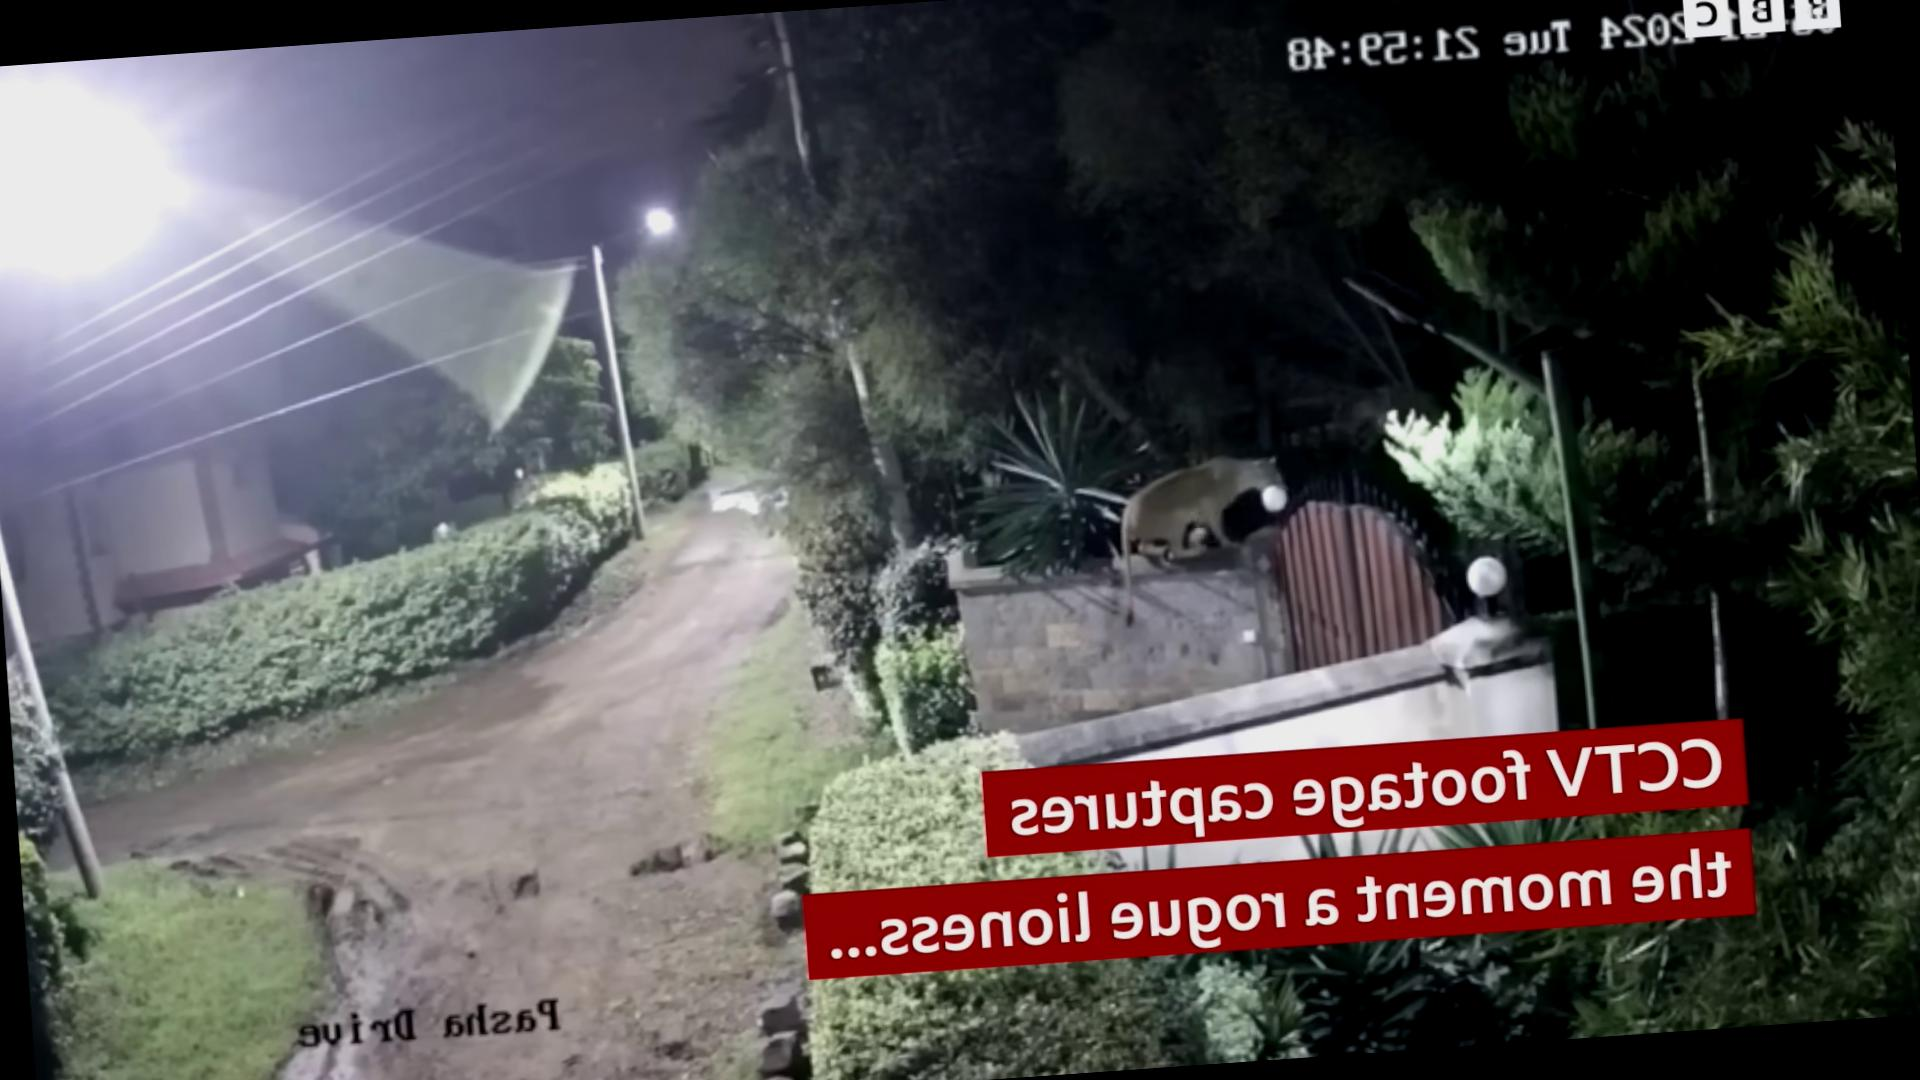lions: (1020, 444, 1315, 620)
